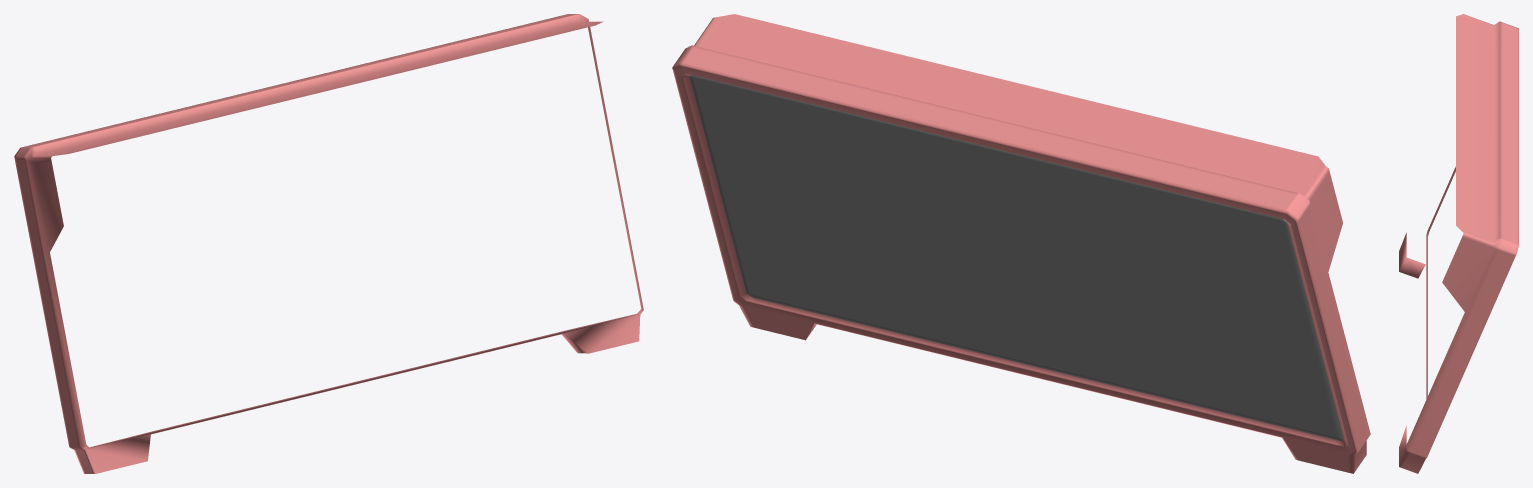
3 views of the same model, side by side, from view 1: azimuth 30°, elevation 25°; view 2: azimuth 150°, elevation 25°; view 3: azimuth 270°, elevation 25° (orthographic). The views are drawn at different scales.
Visible parts, largest first — view 1: SC_TV_00; view 2: SC_TV_00; view 3: SC_TV_00.
Boxes of the visible parts, x1=… form: SC_TV_00: x1=14, y1=14, x2=643, y2=473; SC_TV_00: x1=672, y1=14, x2=1370, y2=473; SC_TV_00: x1=1399, y1=14, x2=1518, y2=473.
Bounding box in the file's own units: 48.85 × 24.96 × 11.06.
